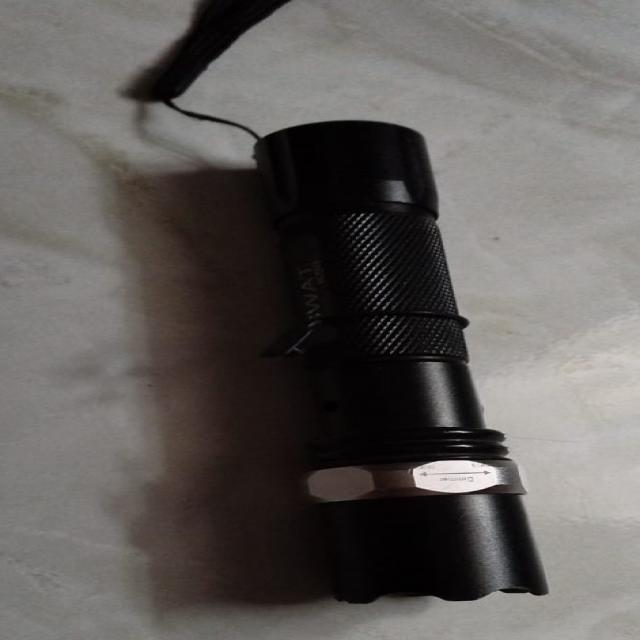Anorganik: (252, 115, 550, 604)
